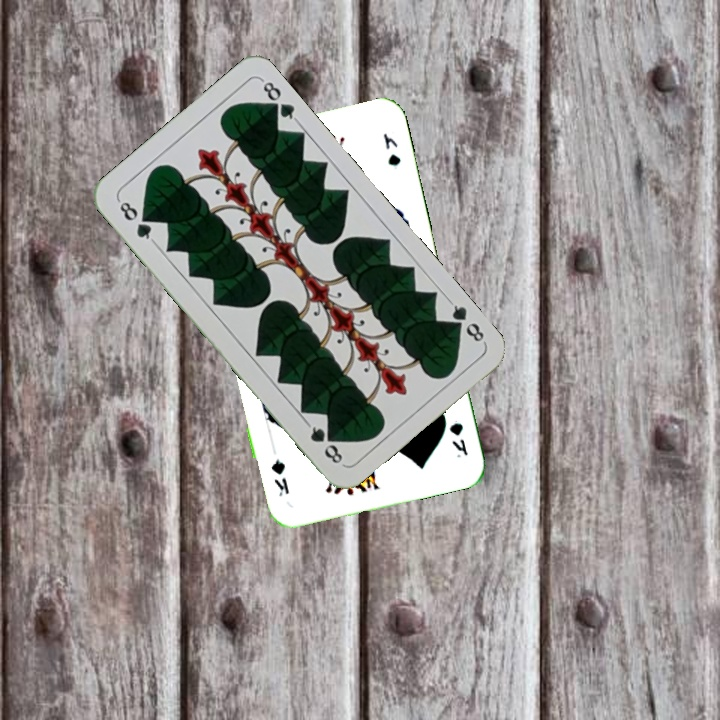G8: (444, 296, 488, 347), (114, 196, 157, 245)
GK: (445, 418, 471, 460)
